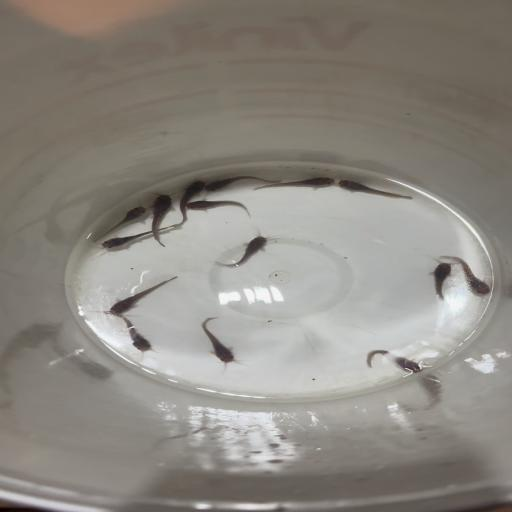lele: (99, 312, 166, 356), (106, 275, 179, 314), (212, 227, 280, 268), (200, 316, 246, 368), (89, 204, 148, 243), (440, 254, 490, 298), (99, 222, 180, 249), (362, 346, 424, 378), (143, 189, 176, 247), (337, 178, 413, 202), (176, 178, 208, 230), (203, 174, 283, 194), (250, 174, 338, 191), (428, 260, 460, 303), (184, 199, 252, 217)
